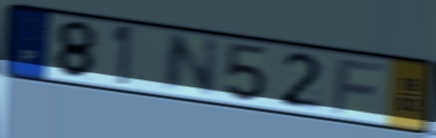1: (110, 23, 136, 90)
2: (282, 51, 324, 113)
5: (225, 40, 268, 104)
8: (52, 19, 101, 81)
F: (330, 57, 388, 116)
N: (158, 32, 221, 97)
